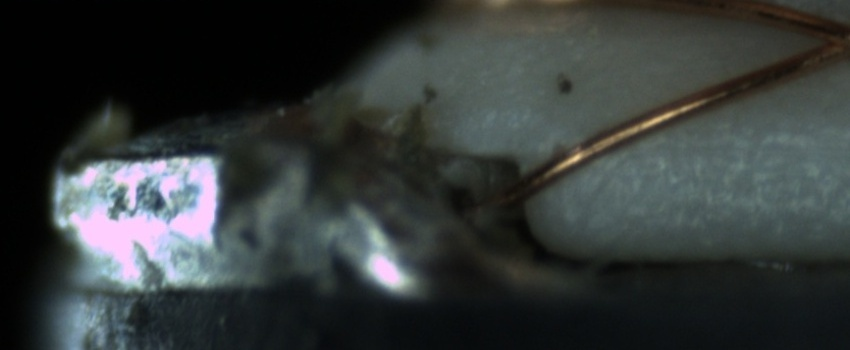CL: (797, 8, 850, 66)
DL: (631, 115, 849, 174)
